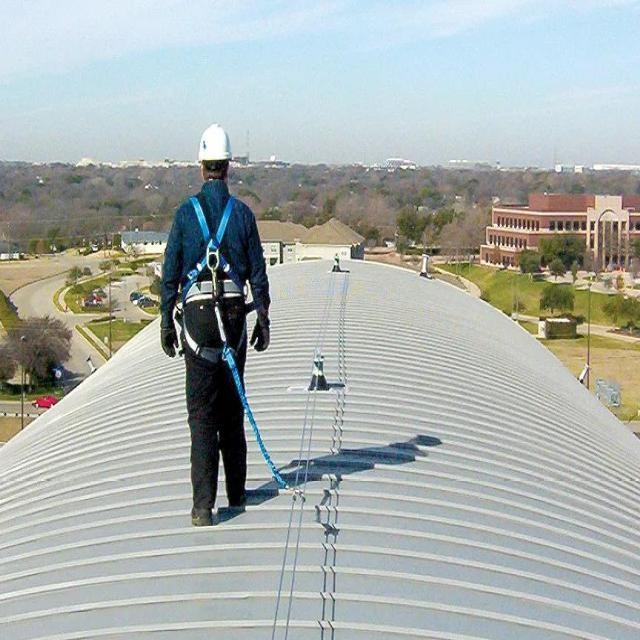Arnes_seguridad: (181, 192, 249, 368)
